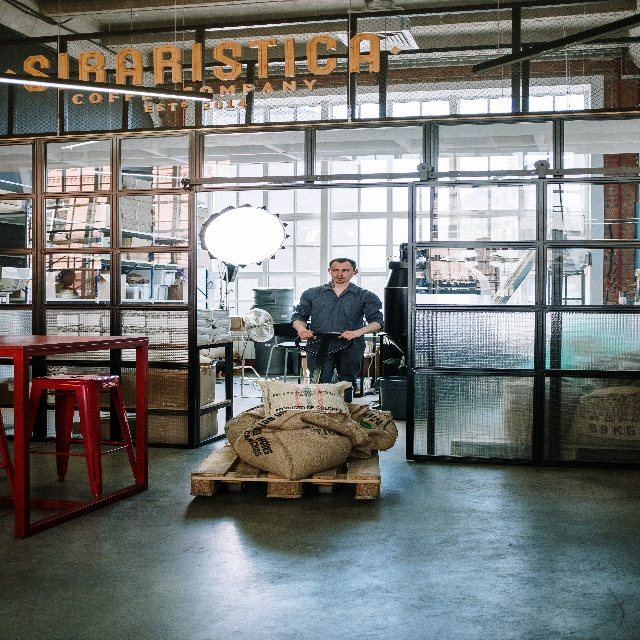Sin_guantes: (337, 328, 362, 343), (297, 329, 317, 341)
